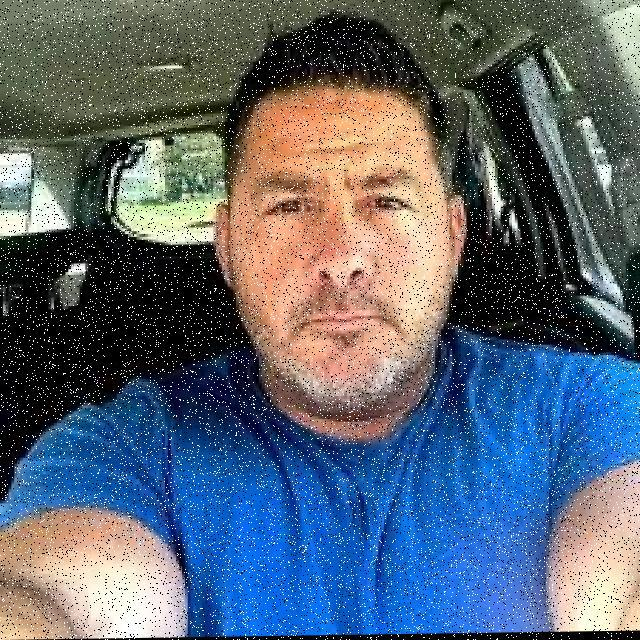noSeatbelt: (3, 289, 640, 640)
